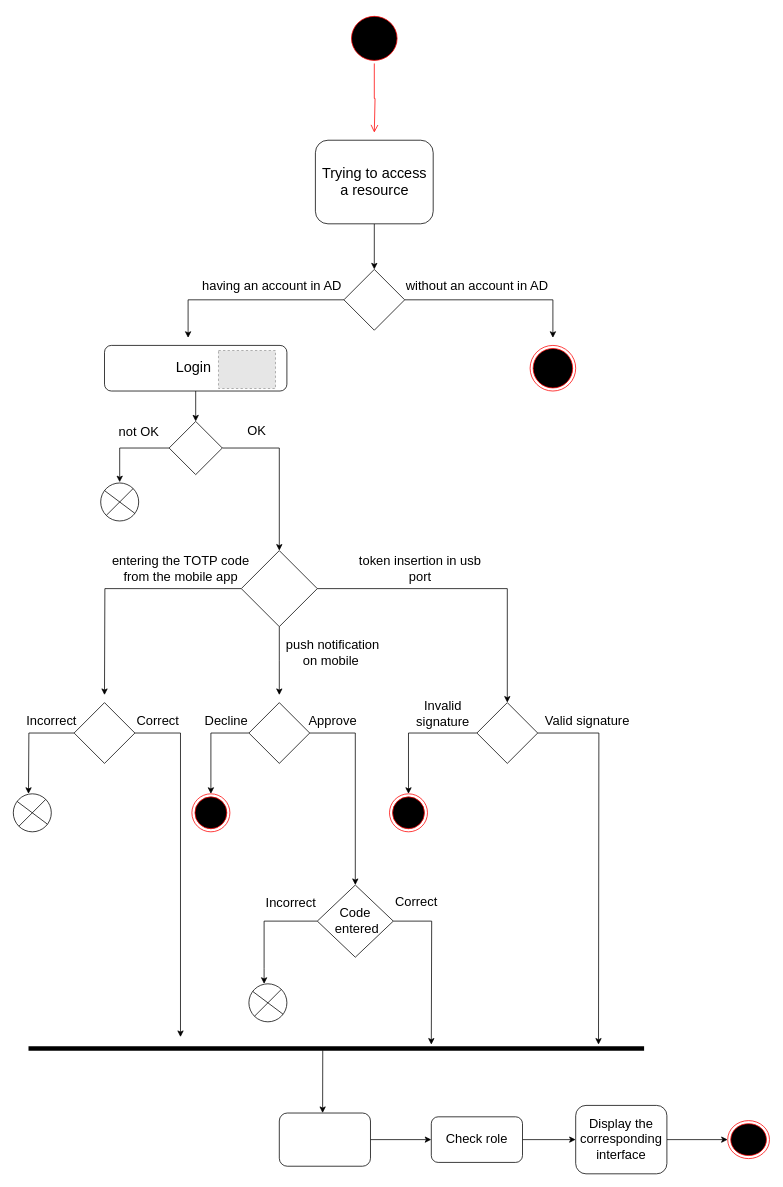
Image size: 783x1187. Some labels were removed from this diagram. Grey dashed boxes stand in for pictures. Each missing label, with the centre of its shape:
"2FA method" goes at point (279, 588).
"Access token Refresh token" goes at point (324, 1139).
